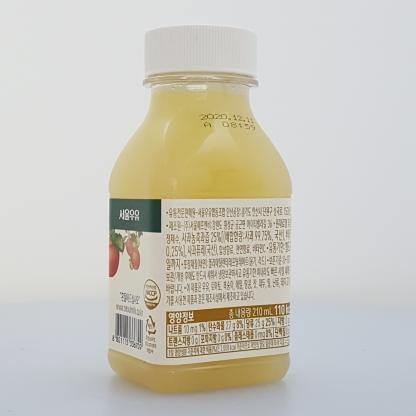-----------210ML: (107, 25, 292, 393)
